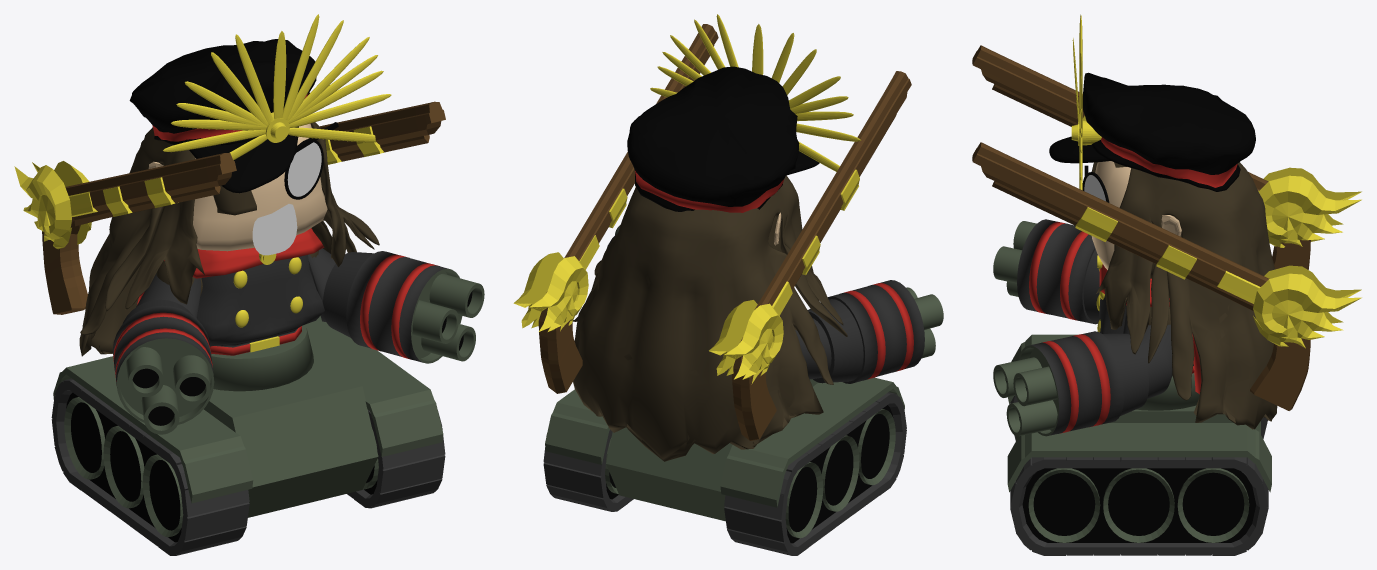
File: Nobu2.fbx
3 renders of one model, left to right at view 1: azimuth 30°, elevation 25°; view 2: azimuth 150°, elevation 25°; view 3: azimuth 270°, elevation 25°, orthographic. The views are drawn at different scales.
Visible parts, largest first — view 1: Cube.002; view 2: Cube.002; view 3: Cube.002.
Part boxes in pixels (x1,y1,x2,y2): Cube.002: (14,14,484,555); Cube.002: (513,14,943,555); Cube.002: (972,14,1361,555).
Bounding box in the file's own units: 12259 × 16003 × 12248.
